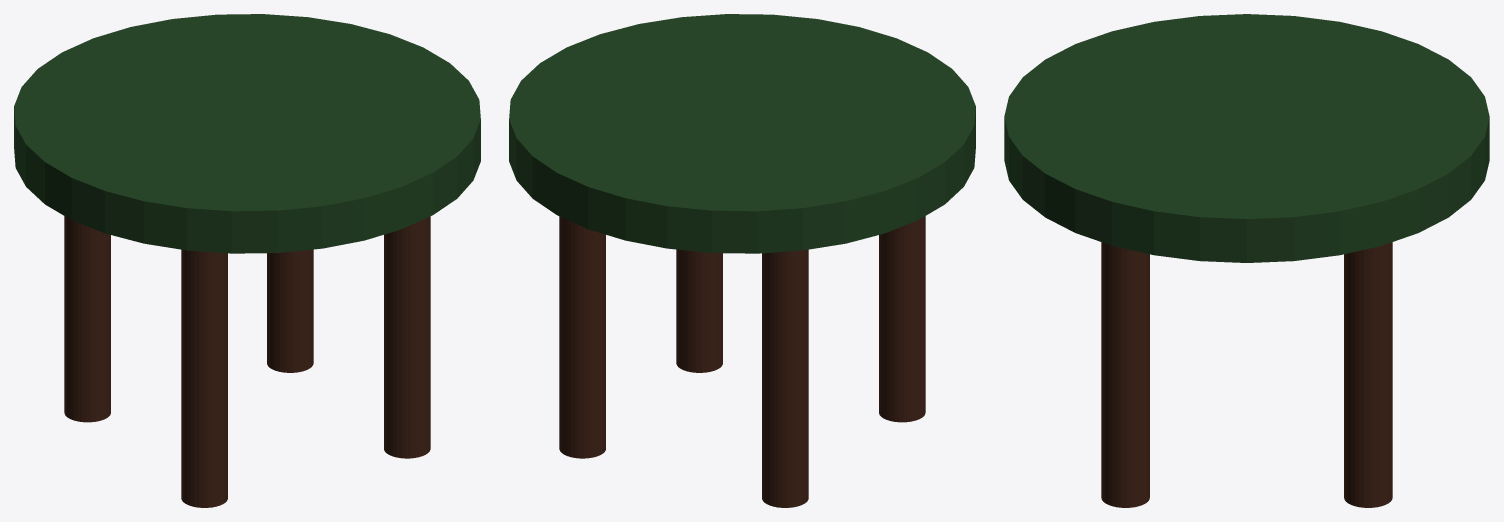
The model's file is samplechair.obj.
3 views of the same model, side by side, from view 1: azimuth 30°, elevation 25°; view 2: azimuth 150°, elevation 25°; view 3: azimuth 270°, elevation 25° (orthographic). The views are drawn at different scales.
Visible parts, largest first — view 1: Seat, Leg_1, Leg_2, Leg_3, Leg_4; view 2: Seat, Leg_3, Leg_4, Leg_1, Leg_2; view 3: Seat, Leg_2, Leg_4.
Part boxes in pixels (<box>): Seat: <box>14,14,480,253</box>; Leg_1: <box>181,249,227,507</box>; Leg_2: <box>384,216,430,458</box>; Leg_3: <box>64,216,110,422</box>; Leg_4: <box>267,249,313,372</box>; Seat: <box>509,14,975,253</box>; Leg_3: <box>762,249,808,507</box>; Leg_4: <box>559,216,605,458</box>; Leg_1: <box>879,216,925,422</box>; Leg_2: <box>676,249,722,372</box>; Seat: <box>1004,14,1489,262</box>; Leg_2: <box>1101,242,1149,507</box>; Leg_4: <box>1344,242,1392,507</box>.
Bounding box in the file's own units: 1 × 0.75 × 1.
